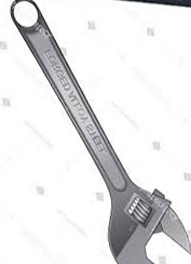wrench: (7, 1, 191, 264)
